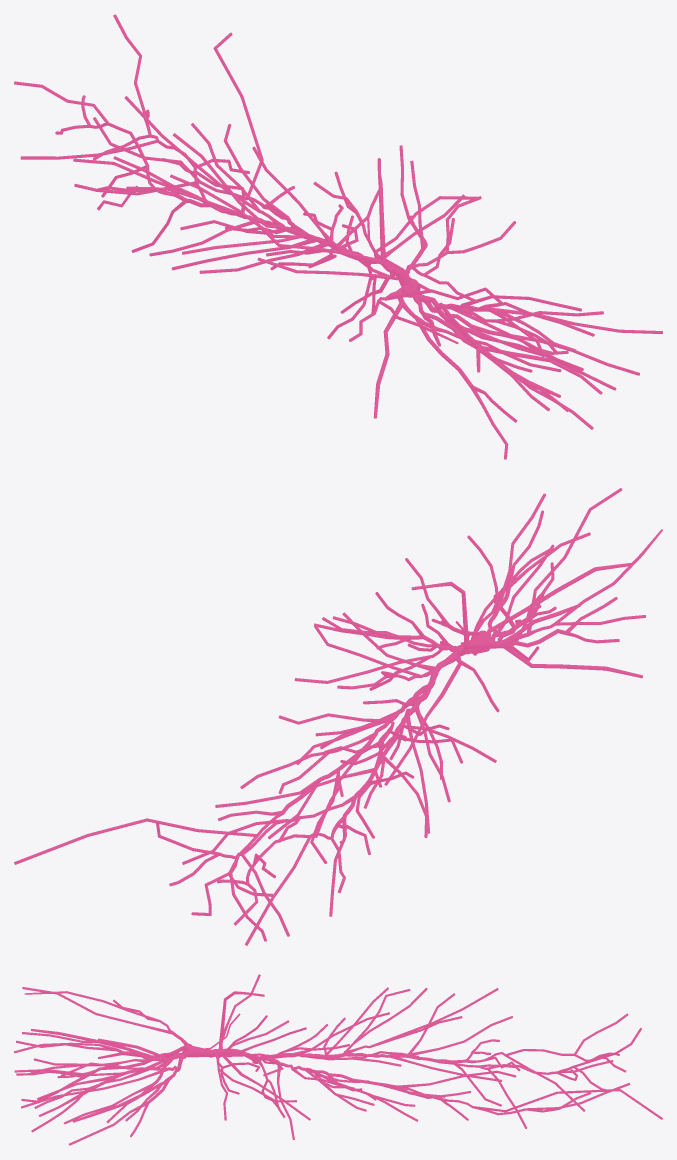
Rendered from neuron_final_2.glb.
3 views of the same model, one above another, from view 1: azimuth 30°, elevation 25°; view 2: azimuth 150°, elevation 25°; view 3: azimuth 270°, elevation 25° (orthographic). The views are drawn at different scales.
Visible parts, largest first — view 1: user5[20]_144; view 2: user5[20]_144, dend_25, dend_7; view 3: user5[20]_144, dend_7, dend_48, dend_35, dend_6, dend_30, dend_25, apic_55, apic_76, apic_86, apic_88, apic_95 (+8 smaller).
Part boxes in pixels (left/top/right/bottom): user5[20]_144: left=213, top=32, right=263, bottom=195; user5[20]_144: left=14, top=818, right=257, bottom=864; dend_25: left=491, top=563, right=630, bottom=631; dend_7: left=527, top=488, right=622, bottom=632; user5[20]_144: left=472, top=1089, right=662, bottom=1119; dend_7: left=22, top=987, right=173, bottom=1034; dend_48: left=21, top=1069, right=169, bottom=1108; dend_35: left=14, top=1067, right=148, bottom=1075; dend_6: left=24, top=991, right=160, bottom=1021; dend_30: left=22, top=1032, right=141, bottom=1055; dend_25: left=31, top=1029, right=158, bottom=1057; apic_55: left=397, top=1070, right=516, bottom=1087; apic_76: left=372, top=988, right=498, bottom=1044; apic_86: left=409, top=1016, right=512, bottom=1055; apic_88: left=389, top=1055, right=501, bottom=1081; apic_95: left=293, top=1012, right=389, bottom=1056.
Size of the model in its own units: 11.72 by 7.35 by 30.74.
